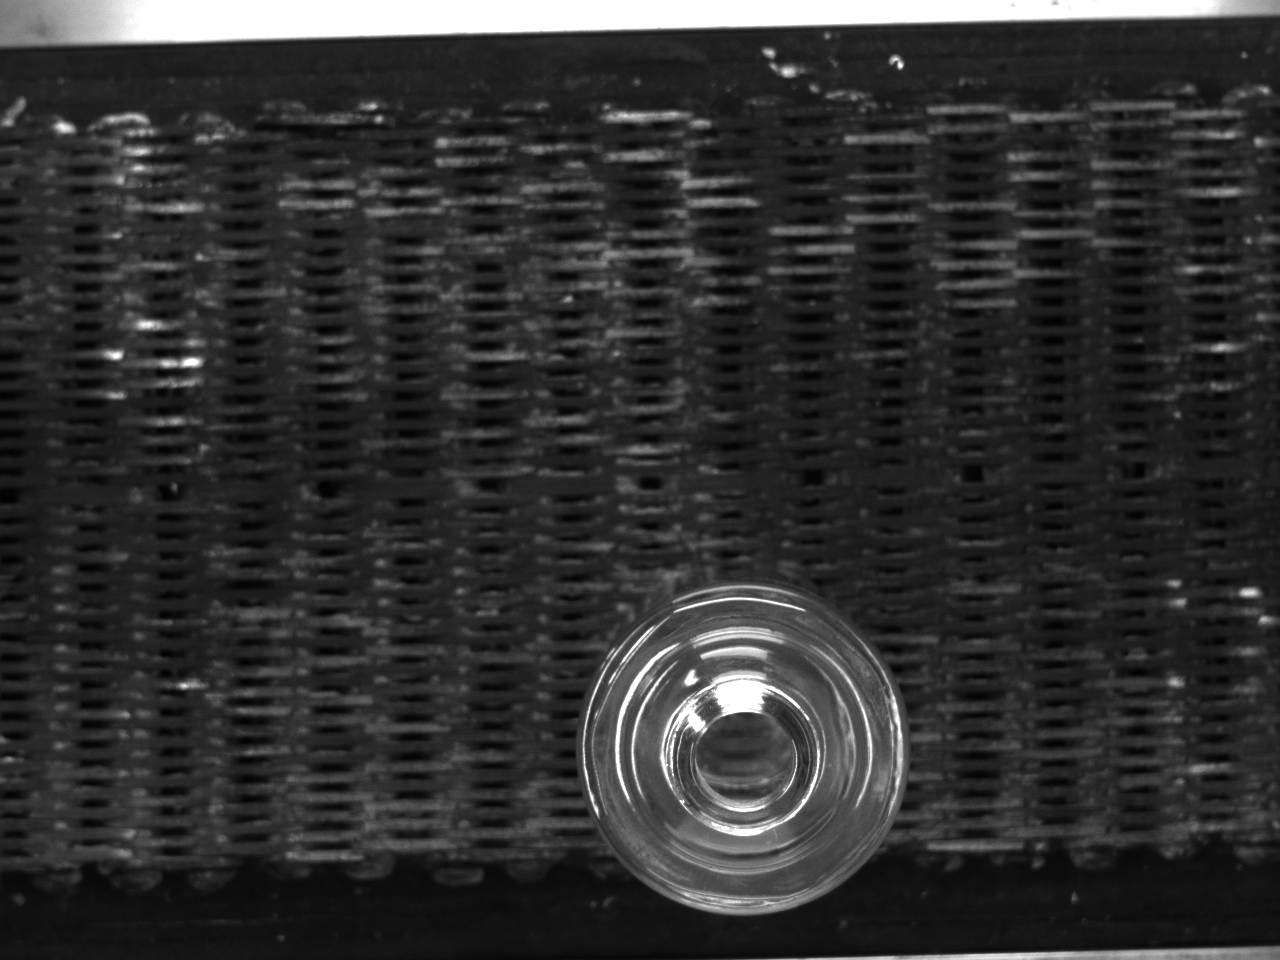bottleneck: (672, 679, 822, 836)
